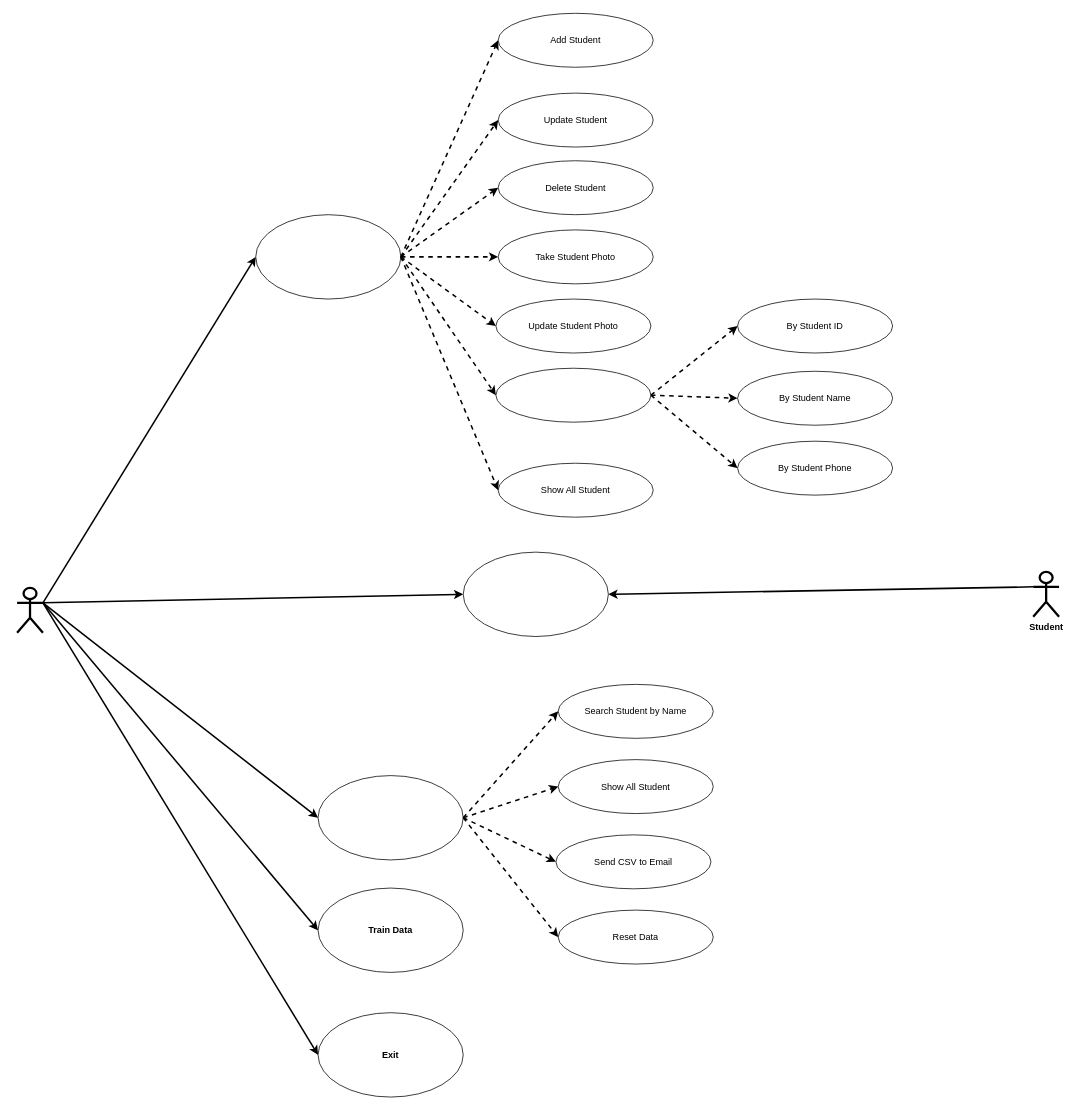
Image size: 1076x1110. Some labels were removed from this diagram. The shapes that lost their labels are listed below. From the top down, each one's box as (x1, y1, x2, y2) in pixels, then its label:
(255, 214, 401, 299): Manage Student
(495, 367, 651, 422): Search Student
(16, 586, 44, 633): Teacher
(462, 551, 608, 636): Check Attendance
(317, 775, 463, 860): View Attendance
